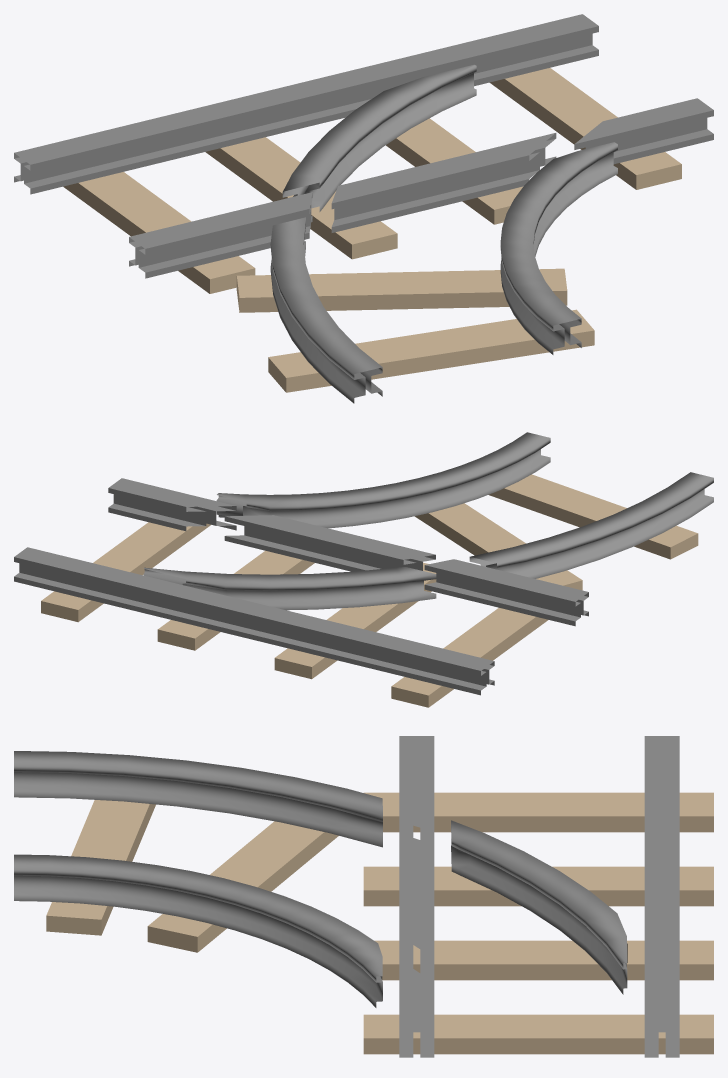
File: mine_track_optional_right.dae
3 renders of one model, top to bottom at view 1: azimuth 30°, elevation 25°; view 2: azimuth 150°, elevation 25°; view 3: azimuth 270°, elevation 25°, orthographic. The views are drawn at different scales.
Visible parts, largest first — view 1: TrackSplitL; view 2: TrackSplitL; view 3: TrackSplitL.
Boxes of the visible parts, <box> form: TrackSplitL: <box>14,14,713,403</box>; TrackSplitL: <box>14,432,713,707</box>; TrackSplitL: <box>14,736,713,1057</box>.
Size of the model in its own units: 2 by 2 by 0.15.
